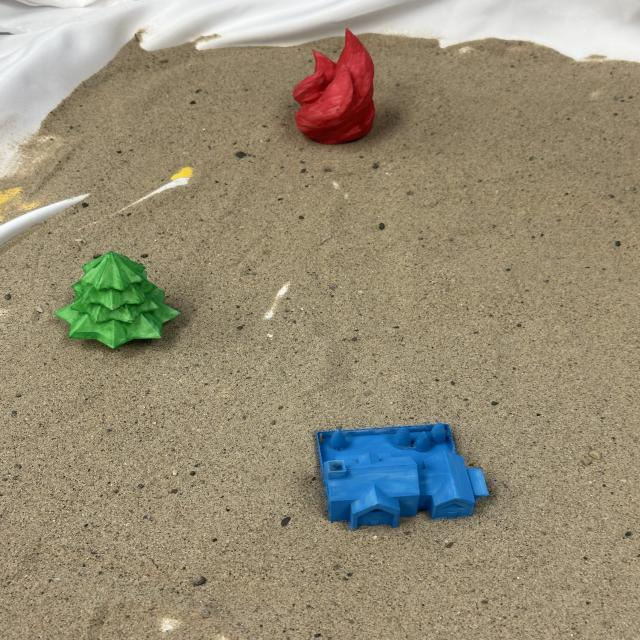fire: (290, 27, 376, 146)
house: (313, 421, 490, 530)
tree: (54, 250, 180, 349)
